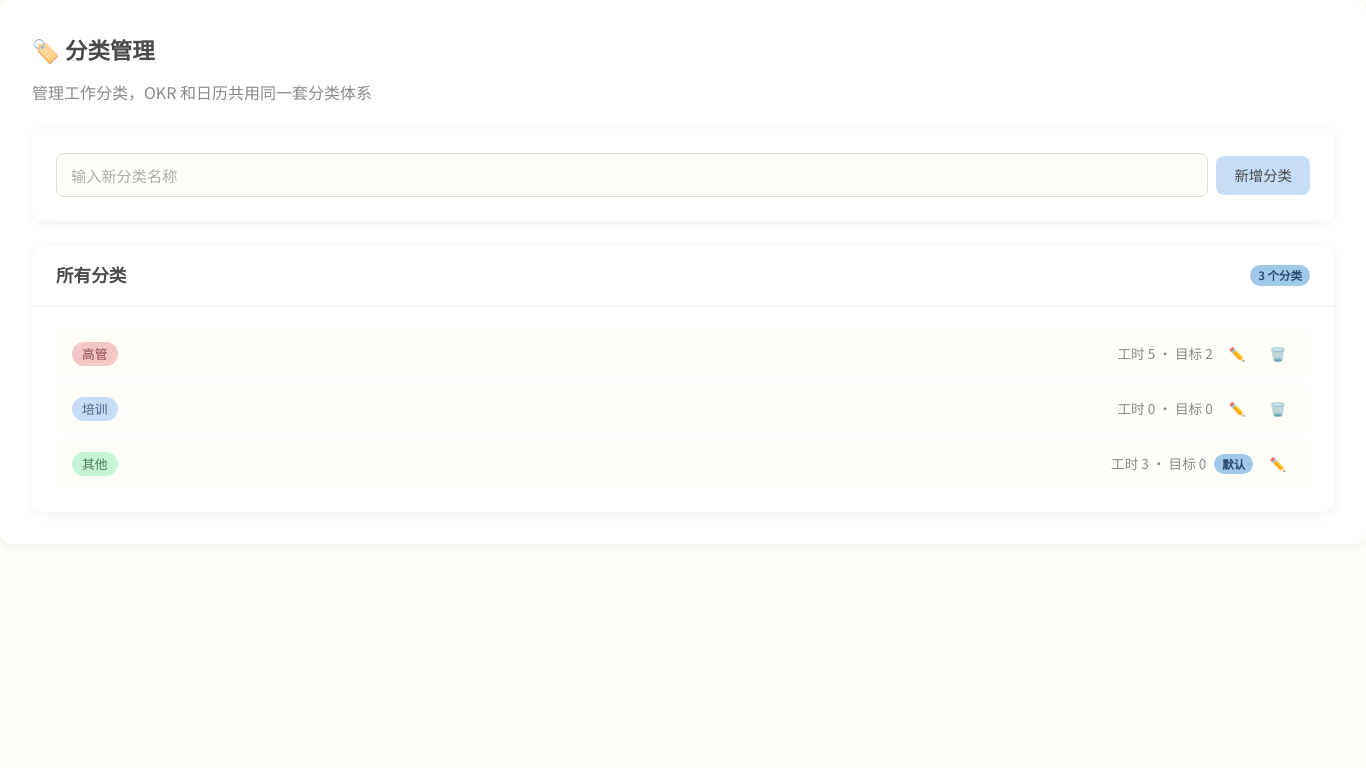
CategoryManagementPage › shows simple confirm dialog for category with no records
Expected: the text "培训" is shown, [72, 397, 118, 421]
What coordinates should you click on to do the following:
click the button named "删除分类 培训"
I would click on:
 (1278, 409)
Its box is [1261, 394, 1294, 425].
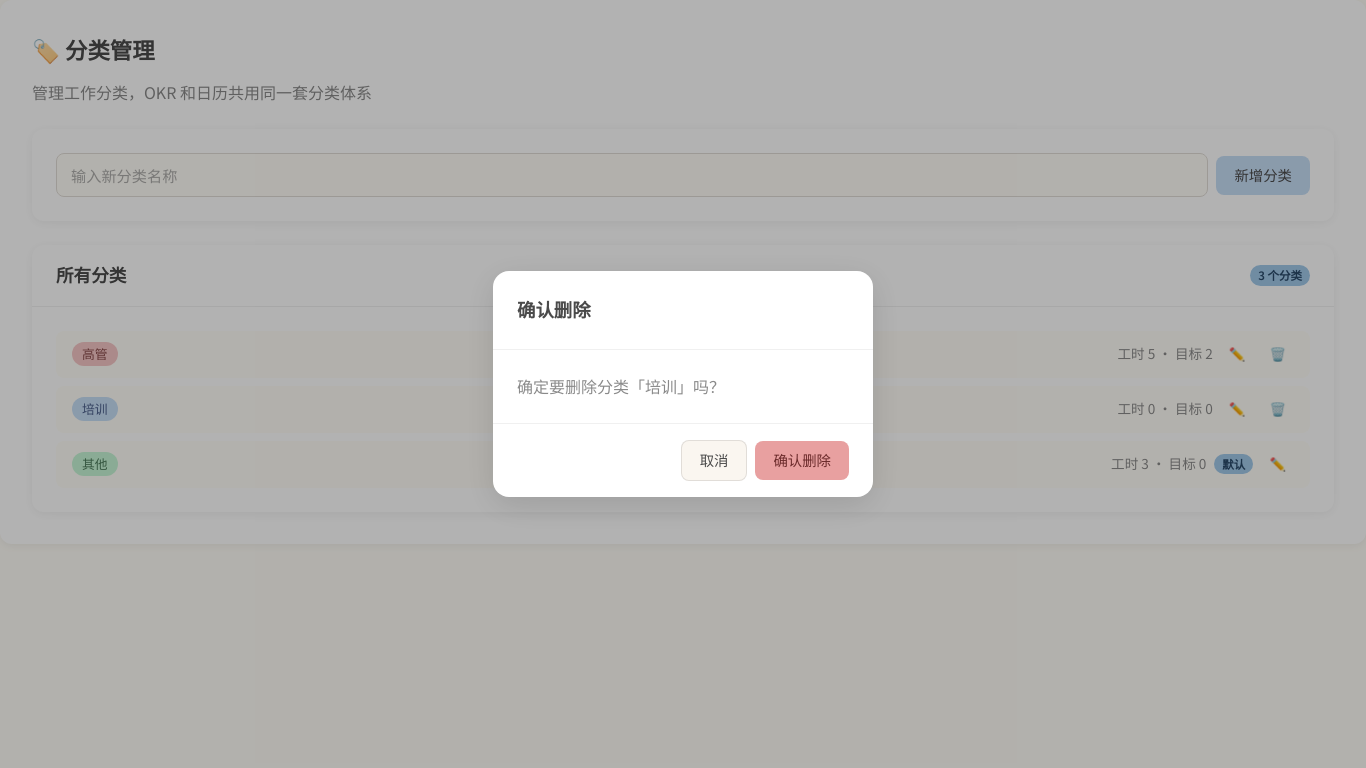
Expected: the text "确定要删除分类「培训」吗？" is shown, [517, 374, 725, 398]
